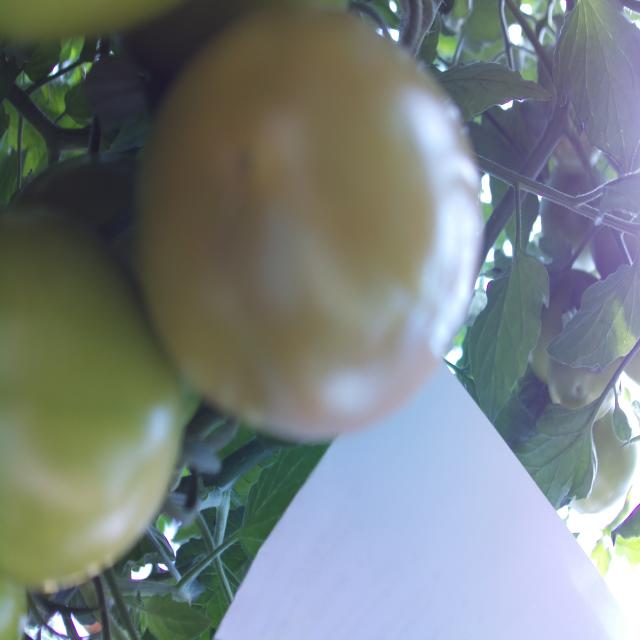yesil: (96, 32, 502, 459)
